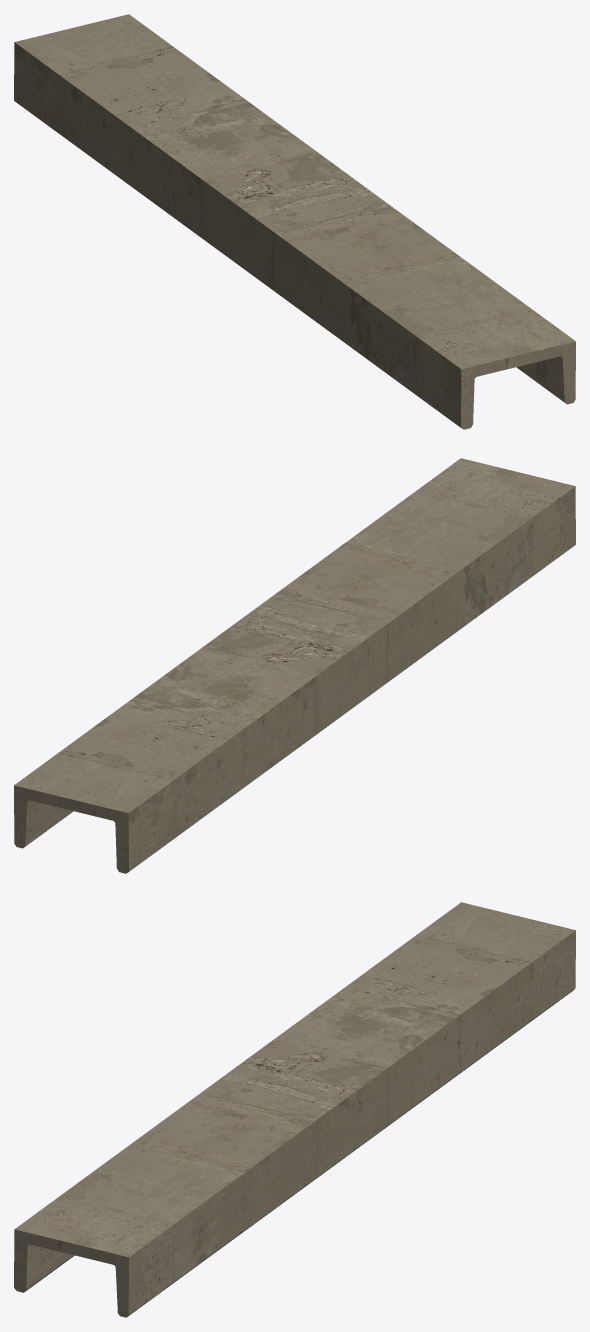
Rendered from viga-concreto-canal.glb.
3 renders of one model, top to bottom at view 1: azimuth 30°, elevation 25°; view 2: azimuth 150°, elevation 25°; view 3: azimuth 330°, elevation 25°, orthographic.
Visible parts, largest first — view 1: Beam.008; view 2: Beam.008; view 3: Beam.008.
Boxes of the visible parts, x1,y1,x2,y2 form: Beam.008: [14, 14, 575, 429]; Beam.008: [14, 458, 575, 873]; Beam.008: [14, 902, 575, 1317].
Size of the model in its own units: 1.81 by 0.9204 by 12.2.
1 material, 1 textured.
